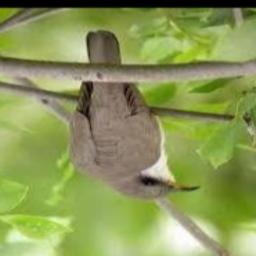Cuckoo: (65, 30, 201, 200)
